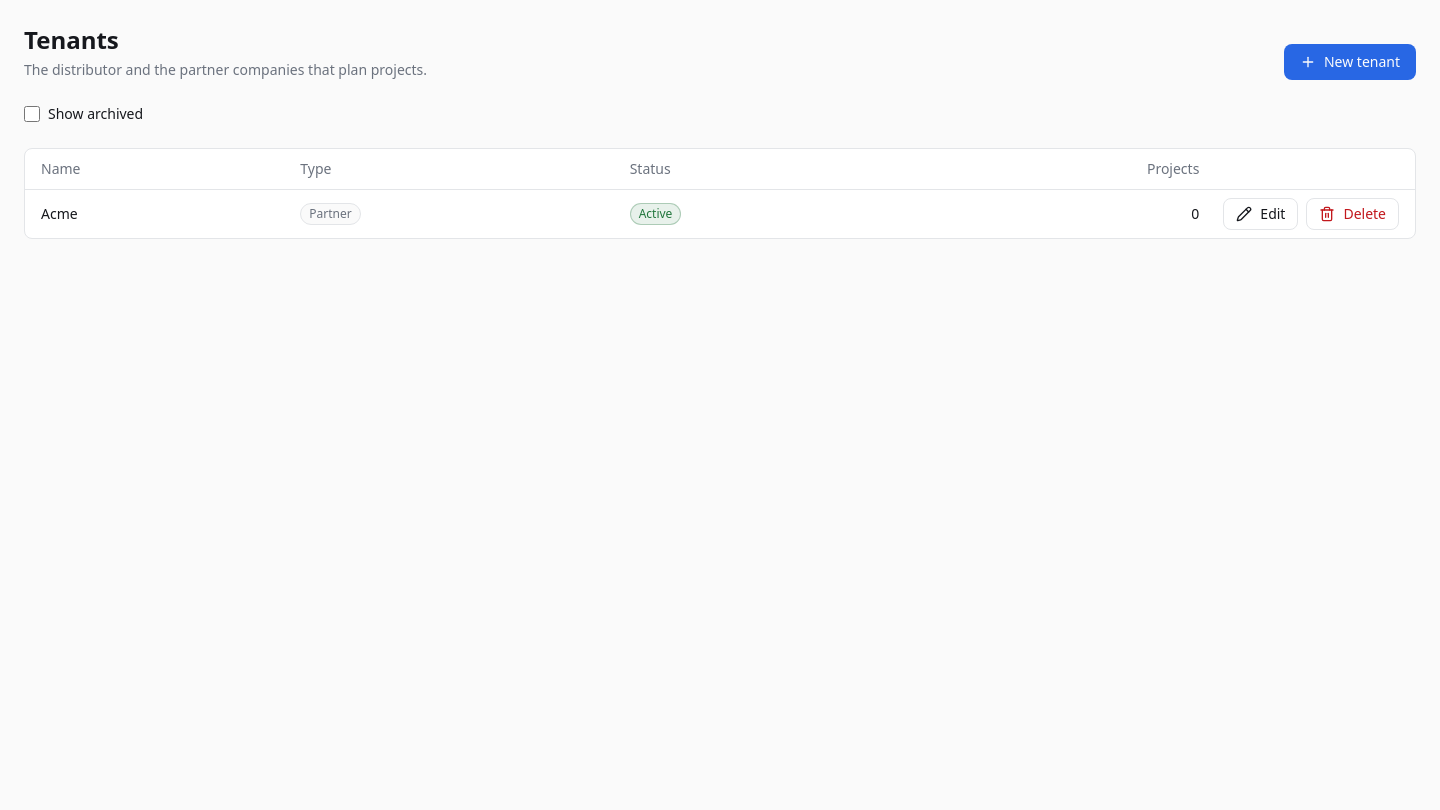
Test: TenantsPage › warns that deleting a tenant deletes its users
What coordinates should you click on to do the following:
click the button "Delete"
I would click on:
 (1353, 214)
Its box is [1306,198,1399,230].
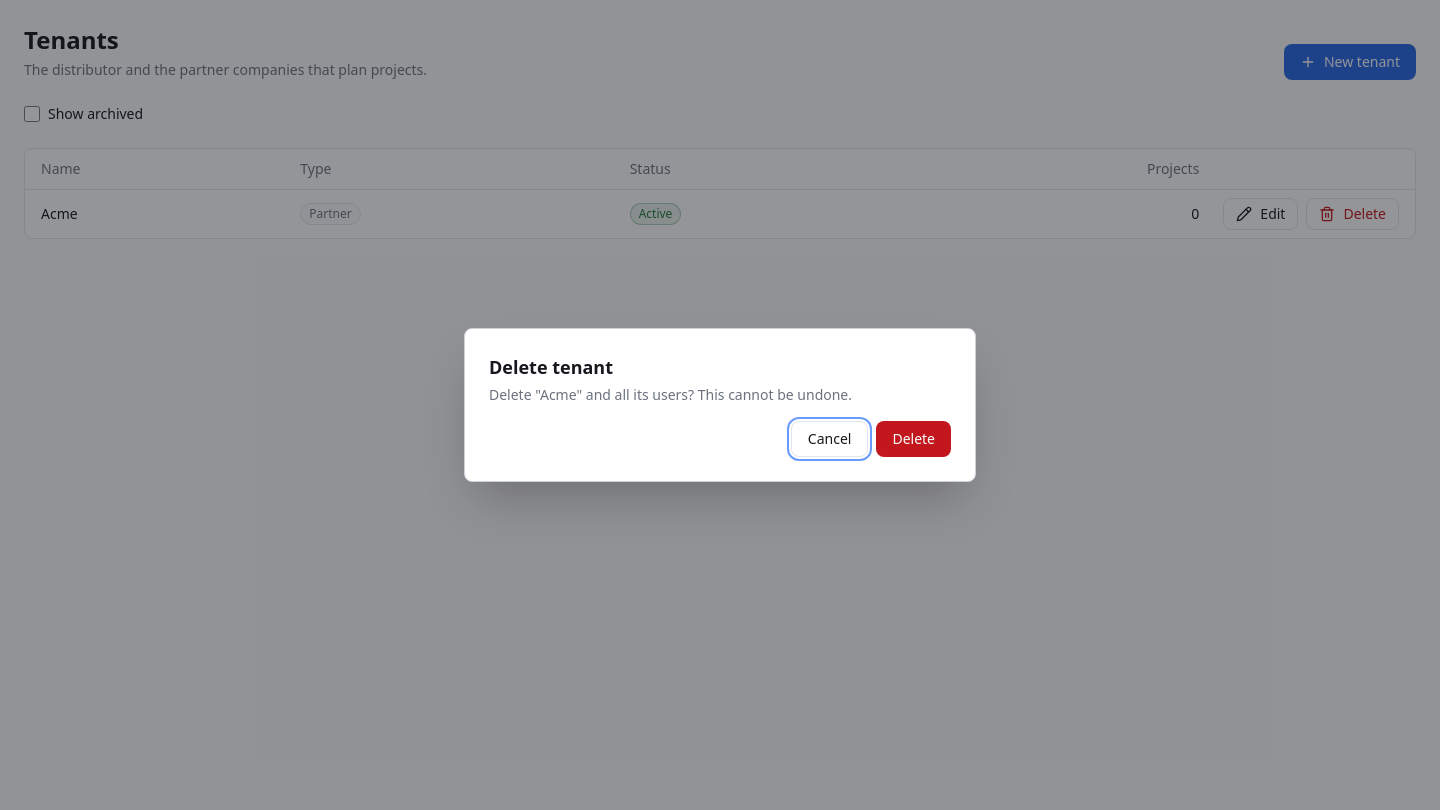
Result: the text "Delete \"Acme\" and all its users? This cannot be undone." is shown at [489,385,852,404]
